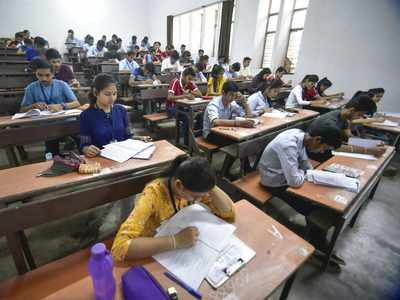student: (127, 149, 249, 277), (265, 122, 357, 191), (73, 82, 138, 160), (13, 65, 84, 118), (202, 88, 253, 132), (258, 76, 290, 124)
